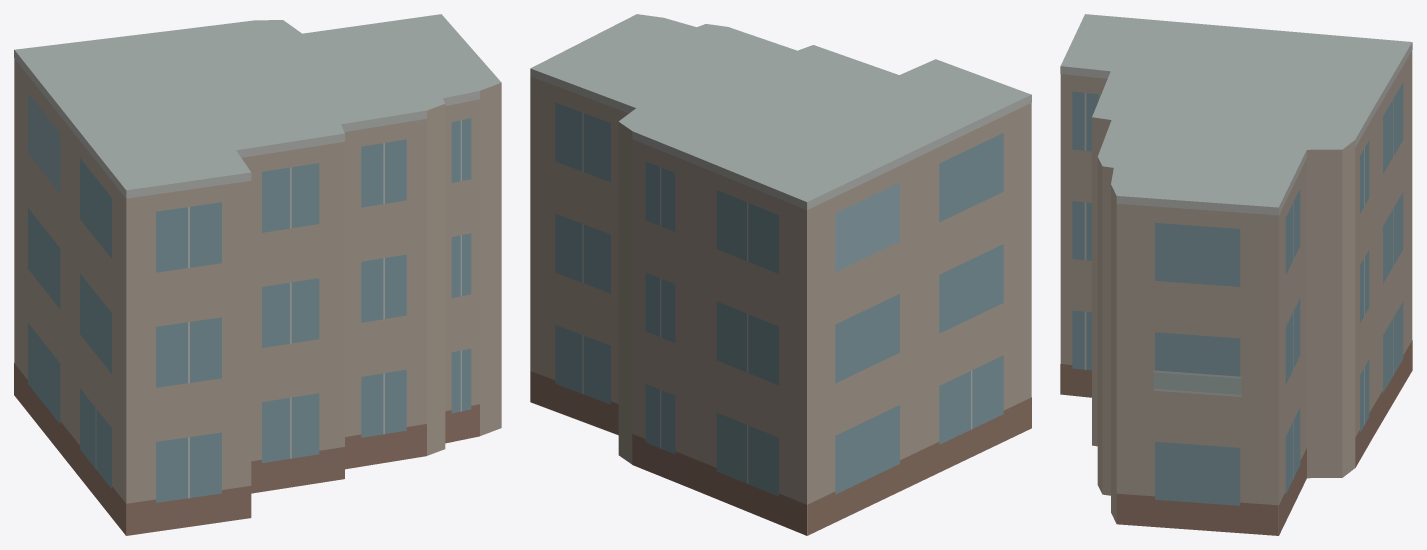
The model's file is survey-upis-32713966.glb.
3 renders of one model, left to right at view 1: azimuth 30°, elevation 25°; view 2: azimuth 150°, elevation 25°; view 3: azimuth 270°, elevation 25°, orthographic. The views are drawn at different scales.
Parts seen in each view (by area): view 1: survey-upis-32713966.tmp; view 2: survey-upis-32713966.tmp; view 3: survey-upis-32713966.tmp.
Part boxes in pixels (x1,y1,x2,y2): survey-upis-32713966.tmp: (14, 14, 501, 535); survey-upis-32713966.tmp: (530, 14, 1031, 535); survey-upis-32713966.tmp: (1060, 14, 1412, 535).
Bounding box in the file's own units: 12.9 × 10.2 × 9.92.
